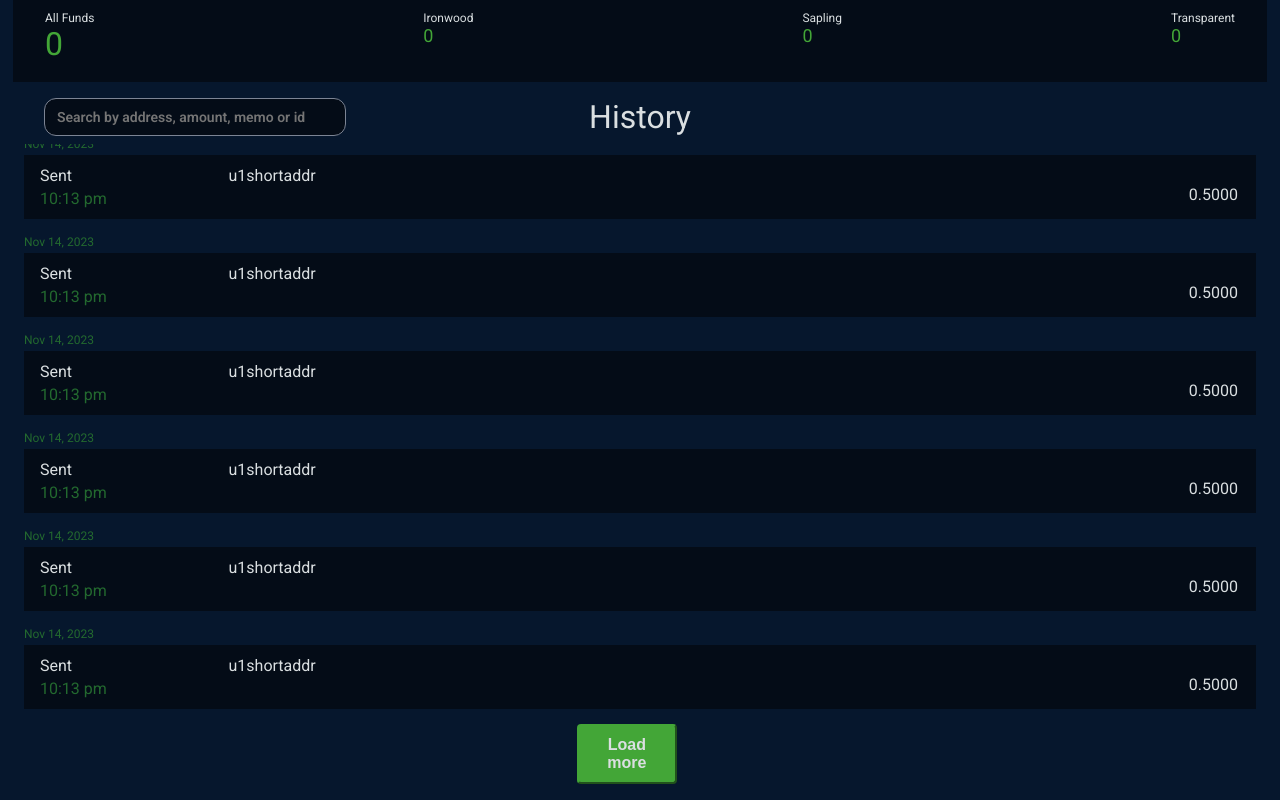
Test case: History › loads 100 more transactions when 'Load more' is clicked
The width and height of the screenshot is (1280, 800).
(page scrolled)
Click the button "Load more" at x=627, y=754, box 577,724 -> 677,784
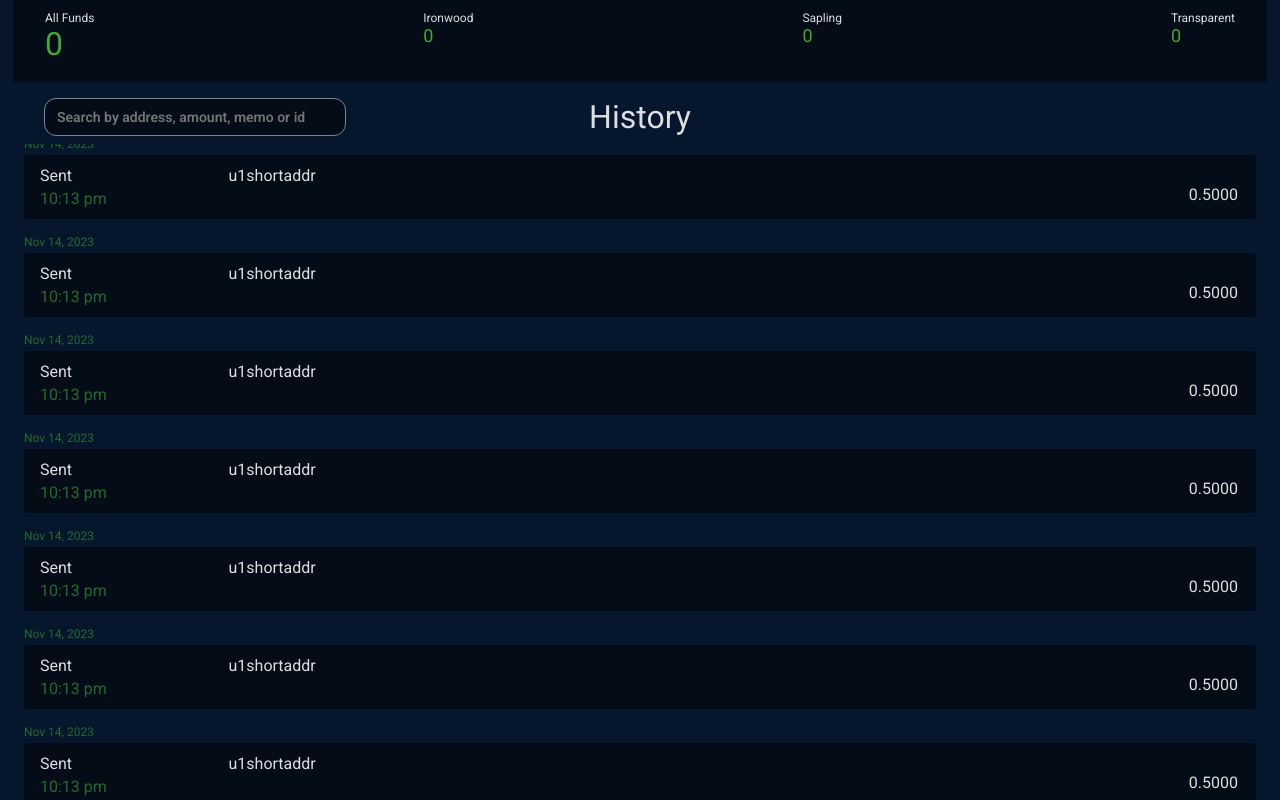
Now the button "Load more" is gone
